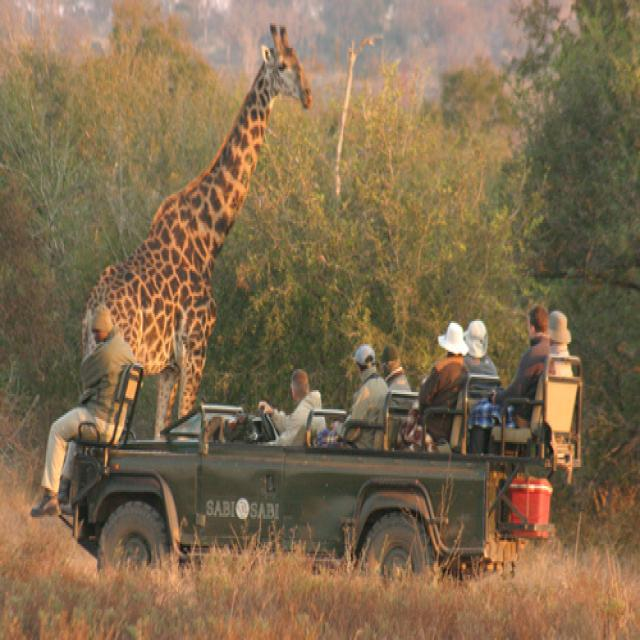Vehicle: (60, 356, 585, 590)
